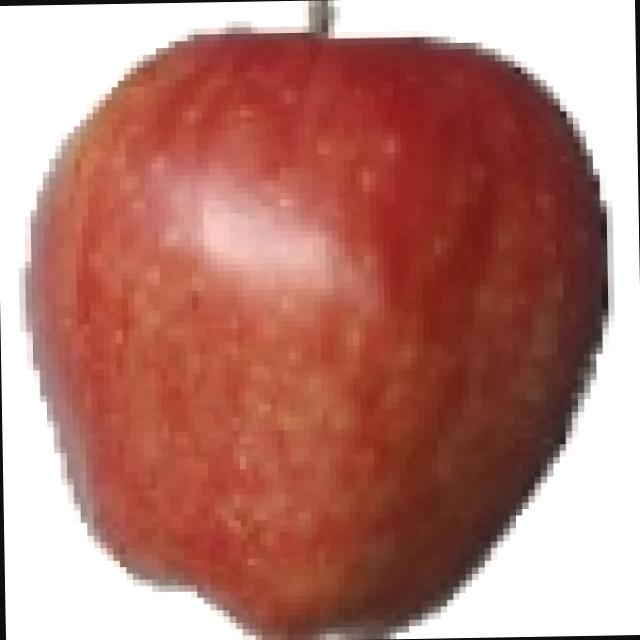apple: (15, 13, 621, 640)
